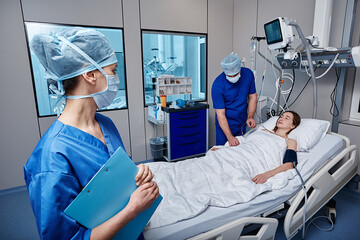Doctor: (214, 56, 257, 124)
Nurse: (44, 26, 132, 192)
monitoring system: (261, 19, 304, 76)
patient: (273, 110, 308, 162)
